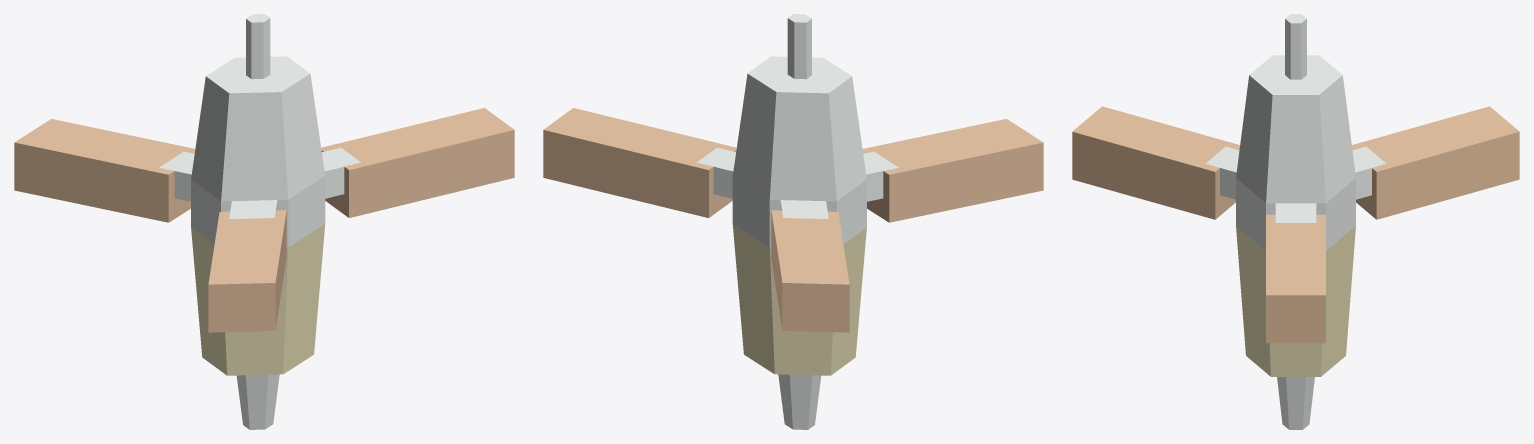
The model's file is kn-ceiling-fan.glb.
3 renders of one model, left to right at view 1: azimuth 30°, elevation 25°; view 2: azimuth 150°, elevation 25°; view 3: azimuth 270°, elevation 25°, orthographic.
Visible parts, largest first — view 1: ceilingFan(Clone); view 2: ceilingFan(Clone); view 3: ceilingFan(Clone).
Boxes of the visible parts, left/top/right/bottom form: ceilingFan(Clone): left=14, top=14, right=514, bottom=429; ceilingFan(Clone): left=543, top=14, right=1043, bottom=429; ceilingFan(Clone): left=1072, top=14, right=1519, bottom=429.
Size of the model in its own units: 1 by 1 by 1.
